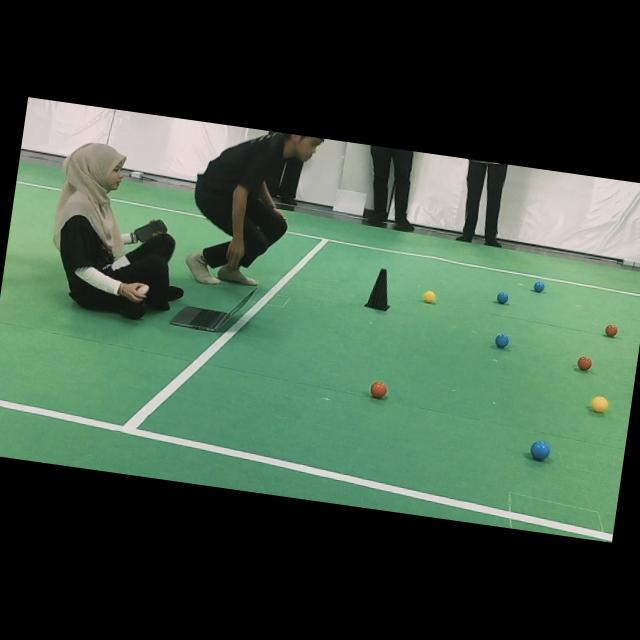ball: (530, 441, 551, 460), (370, 381, 388, 399), (591, 397, 609, 412), (578, 356, 592, 371), (495, 334, 509, 348), (423, 291, 436, 304), (606, 325, 619, 337), (497, 292, 509, 304), (534, 281, 545, 292)
